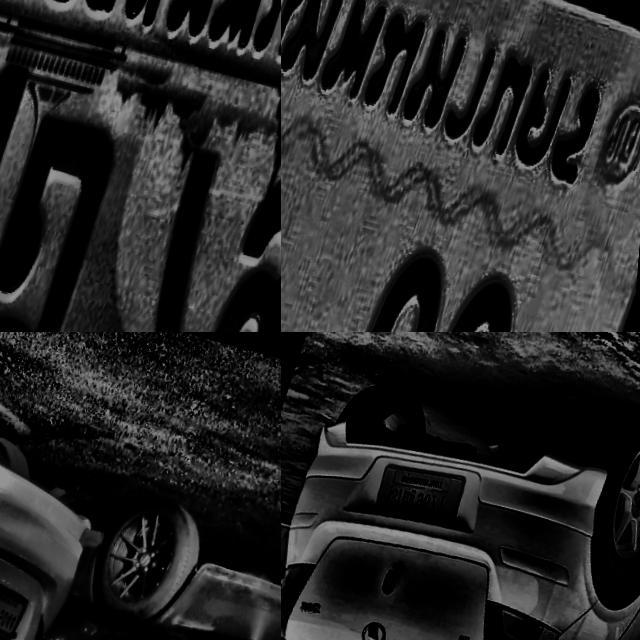license-plate: (281, 0, 640, 332), (0, 0, 281, 332), (372, 449, 474, 528), (0, 579, 37, 640)
